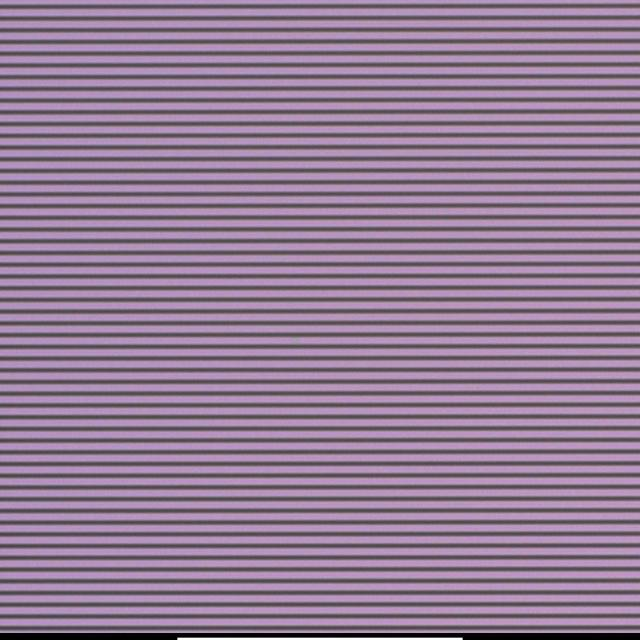nonvisual: (290, 337, 301, 348)
